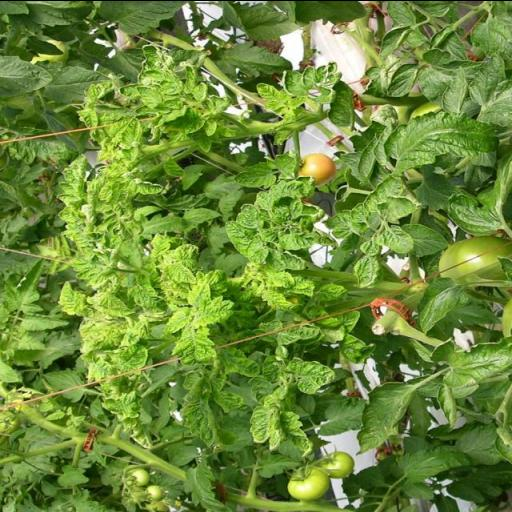disease_tomato: (55, 152, 89, 221), (276, 219, 340, 253), (359, 174, 407, 218), (250, 388, 284, 450), (288, 356, 340, 394), (174, 324, 220, 365), (256, 174, 316, 204), (227, 158, 283, 190), (179, 400, 216, 446), (103, 342, 149, 376), (280, 412, 314, 458), (70, 251, 112, 288), (162, 105, 208, 135), (375, 192, 421, 222), (218, 346, 262, 376), (250, 76, 288, 110), (335, 332, 376, 362), (94, 290, 136, 319), (142, 66, 184, 95), (275, 319, 320, 345), (260, 289, 302, 316), (194, 297, 236, 324), (100, 390, 140, 418), (267, 192, 305, 221), (102, 206, 130, 245), (55, 280, 87, 314), (378, 223, 414, 252), (350, 254, 382, 286), (122, 176, 164, 200), (160, 262, 202, 286), (226, 218, 254, 254), (78, 79, 118, 103), (272, 148, 302, 177), (119, 114, 143, 150), (170, 242, 202, 269), (233, 201, 265, 227), (282, 67, 310, 96), (245, 234, 269, 266), (161, 308, 190, 334), (136, 82, 164, 108), (72, 107, 100, 133), (316, 280, 349, 302), (161, 155, 189, 180), (260, 269, 296, 288), (179, 60, 199, 94), (149, 231, 173, 259), (184, 282, 213, 304), (207, 90, 236, 112), (178, 368, 204, 392), (348, 199, 368, 224), (70, 229, 92, 249), (191, 81, 210, 101), (193, 135, 213, 152)
